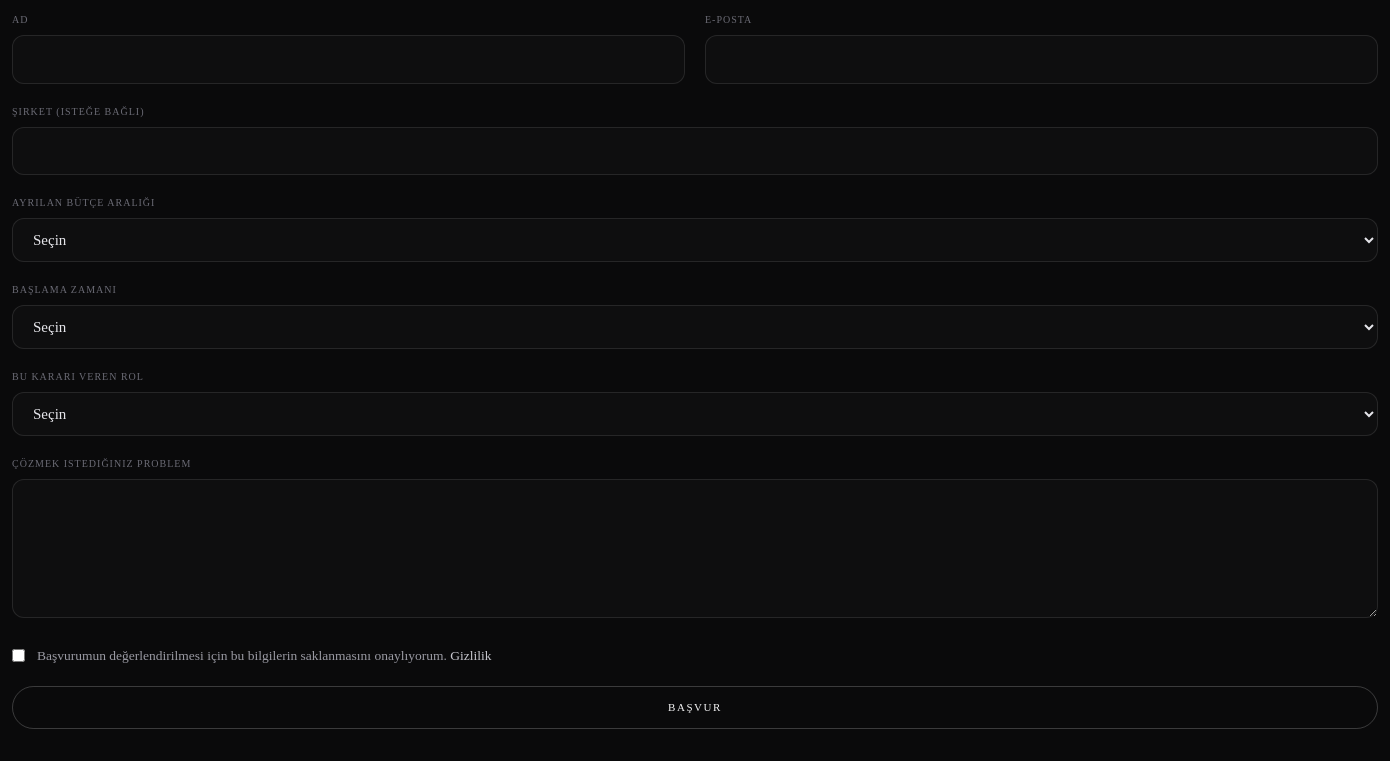
Test case: the Studio API error envelope › renders a known API {error} code with localized copy
Type "Ada" into the field labelled "Ad" at (348, 59), box 12,35 -> 685,84
Type "ada@example.com" into the field labelled "E-posta" at (1042, 59), box 705,35 -> 1378,84
Type "A measurable product problem." into the text box labelled "Çözmek istediğiniz problem" at (695, 548), box 12,479 -> 1378,618
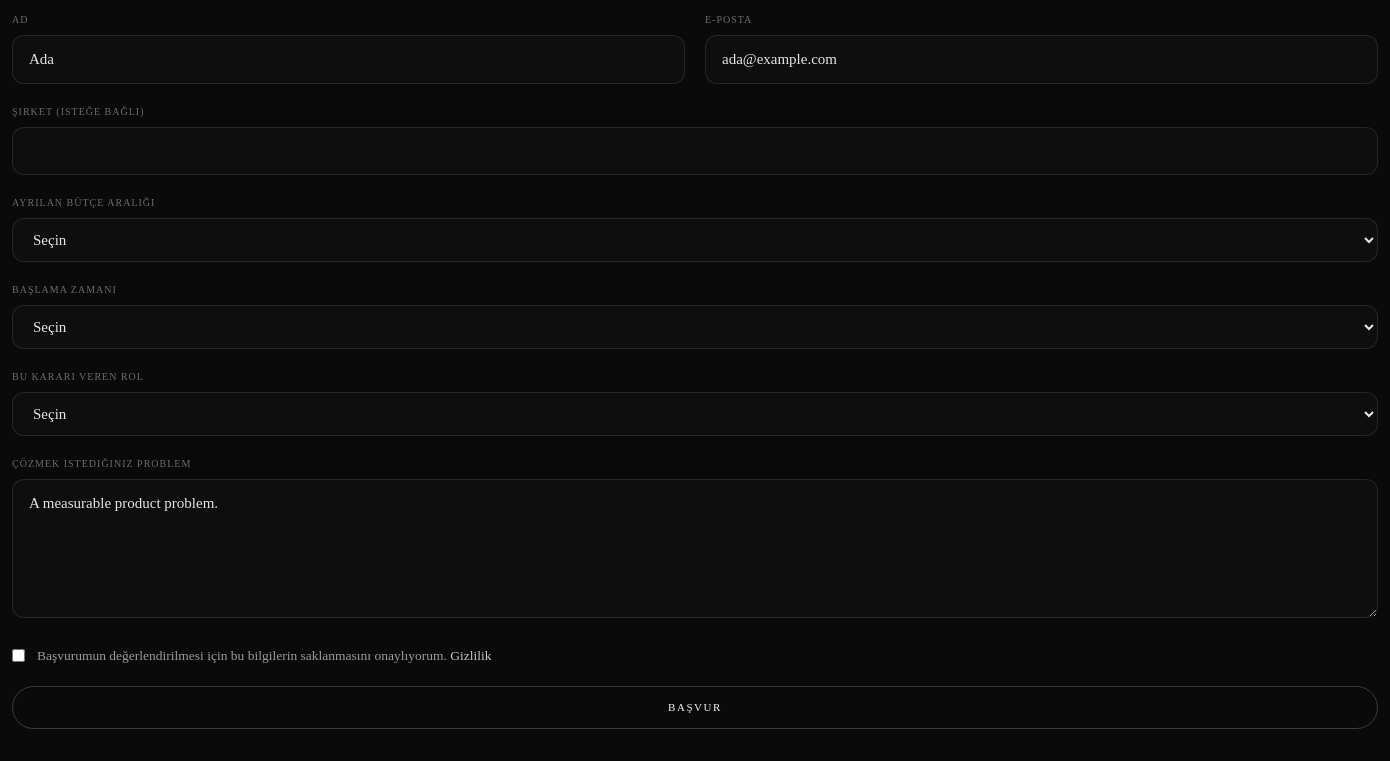
Select "Henüz küçük bir bütçe" in the dropdown labelled "Ayrılan bütçe aralığı" at (695, 240), box 12,218 -> 1378,262
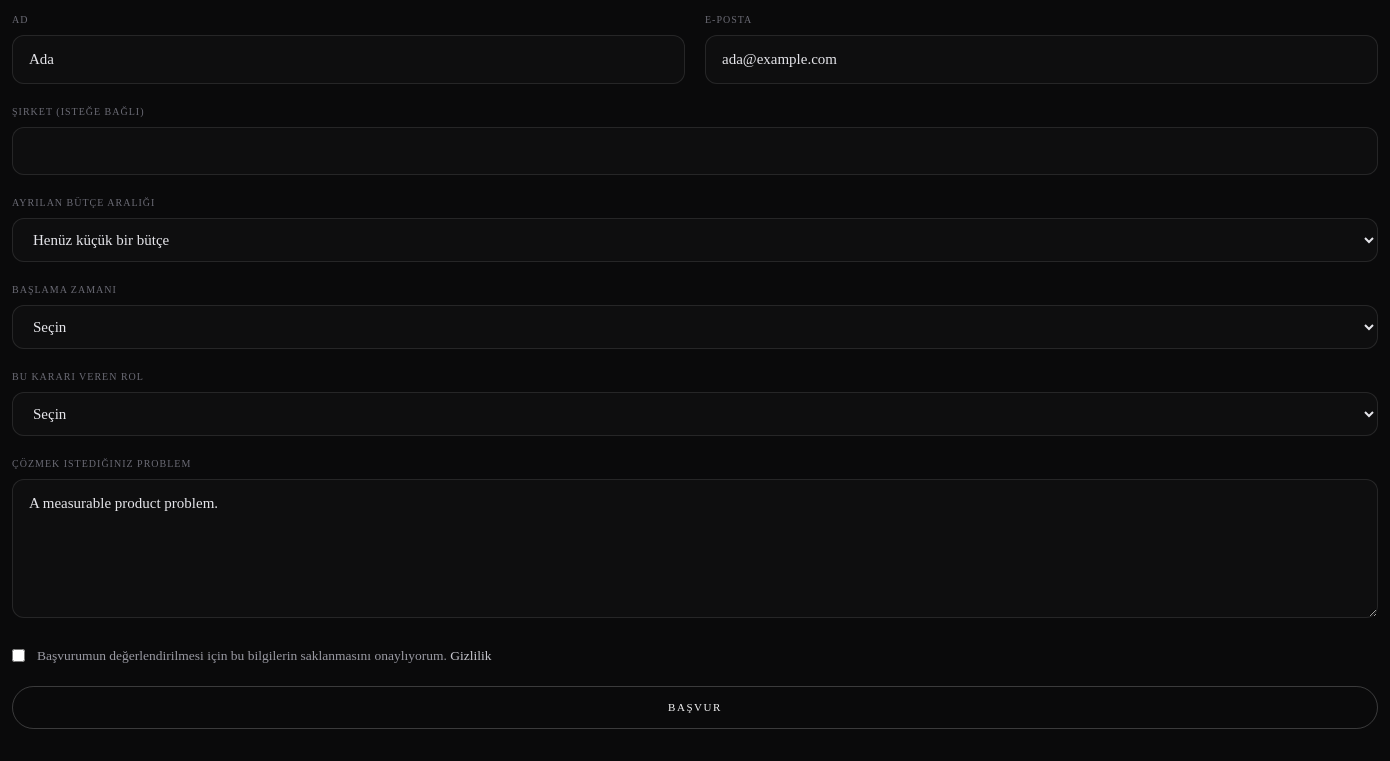
Select "Hazırız" in the dropdown labelled "Başlama zamanı" at (695, 327), box 12,305 -> 1378,349
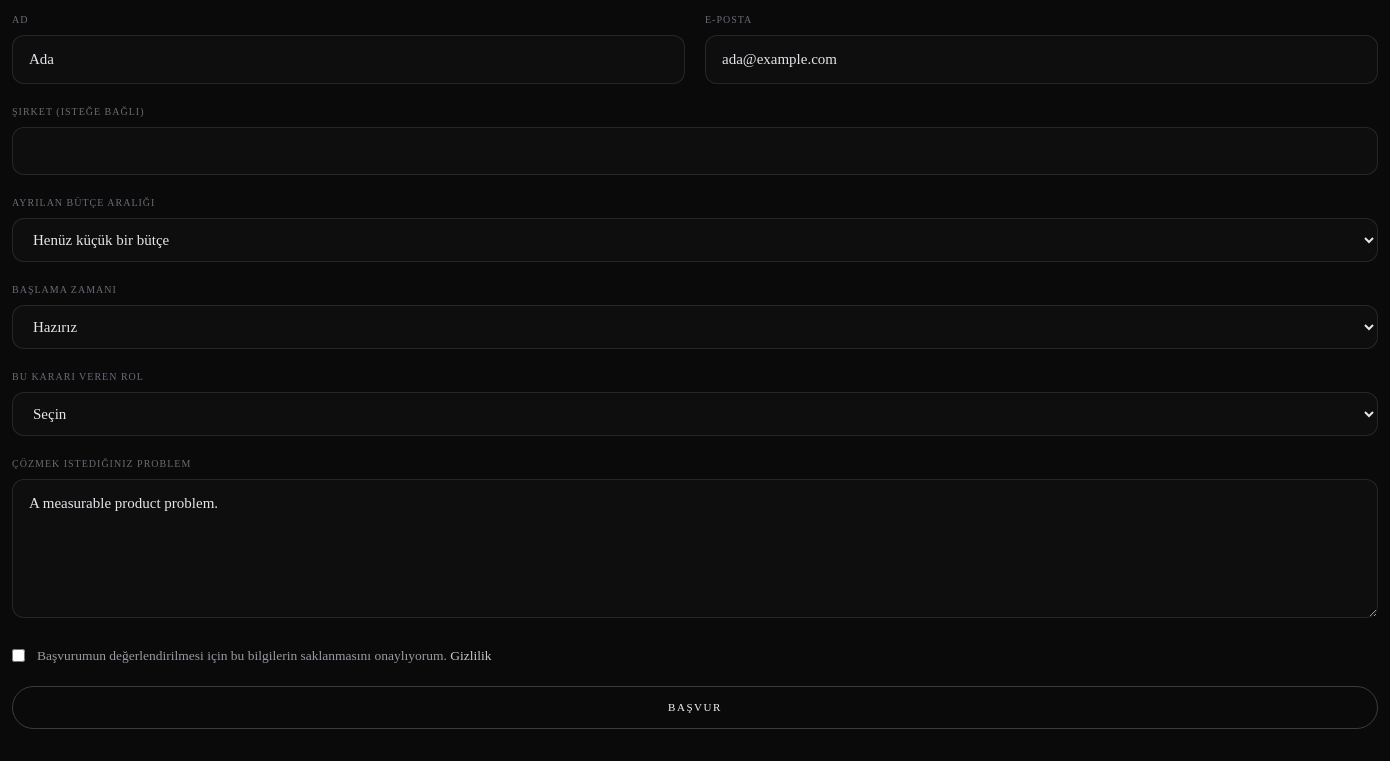
Select "Kurucu" in the dropdown labelled "Bu kararı veren rol" at (695, 414), box 12,392 -> 1378,436
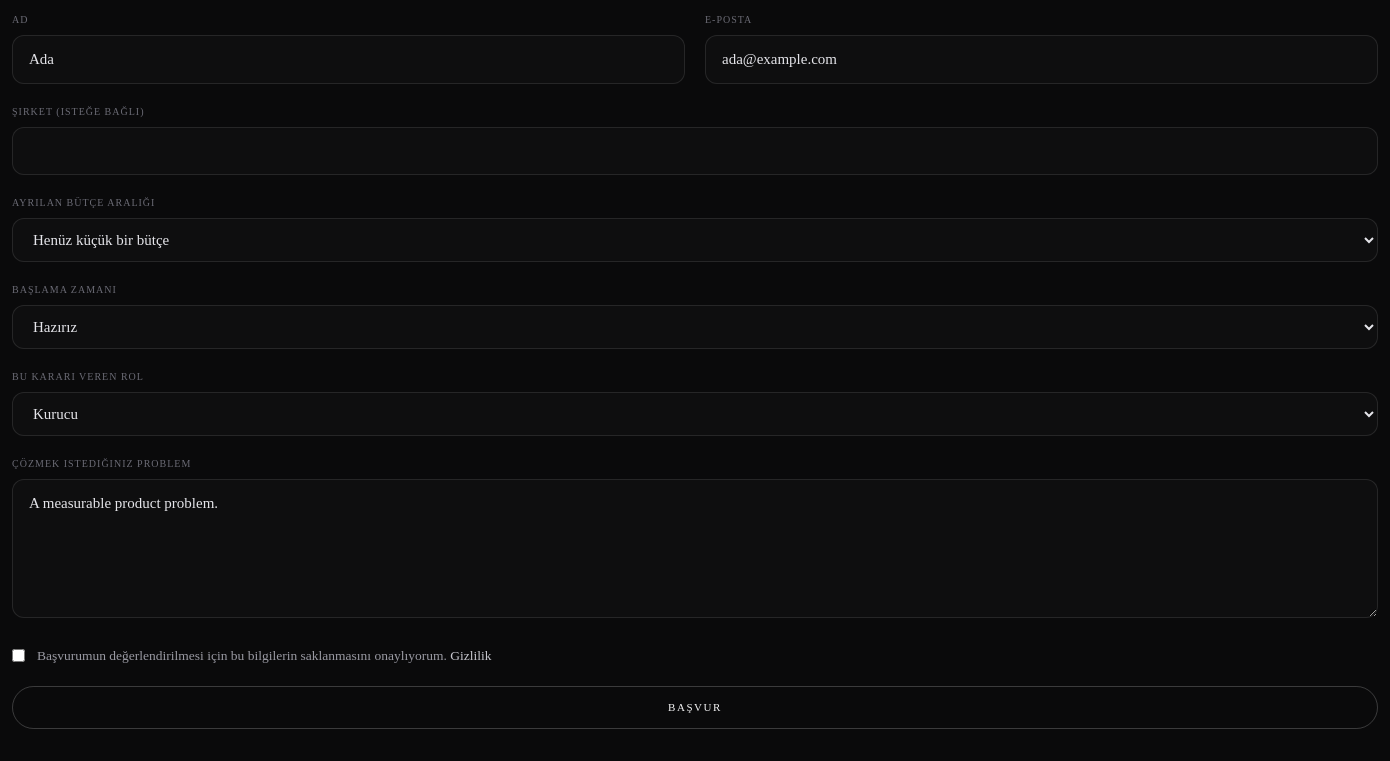
Click the checkbox at (18, 655), box 12,648 -> 25,662
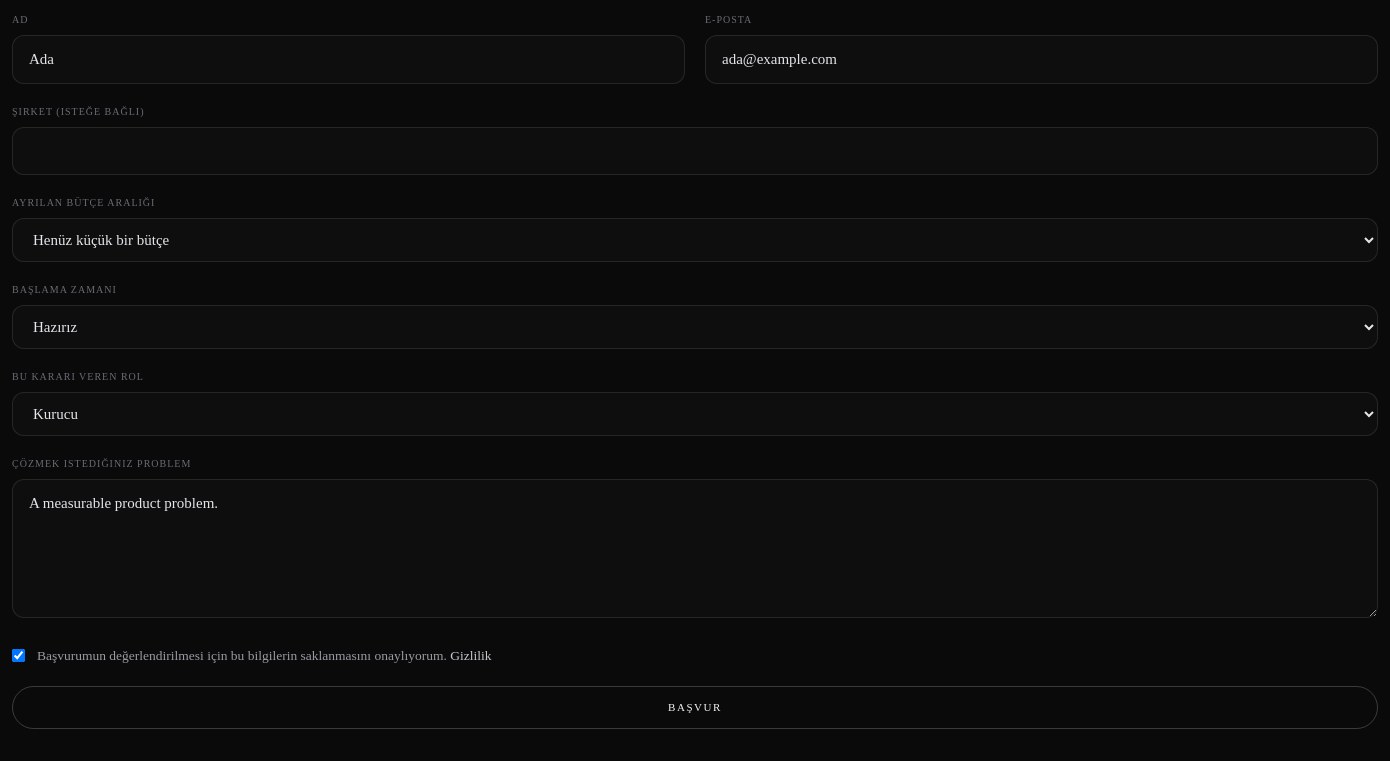
Submit the form from the button "Başvur", box 12,686 -> 1378,729
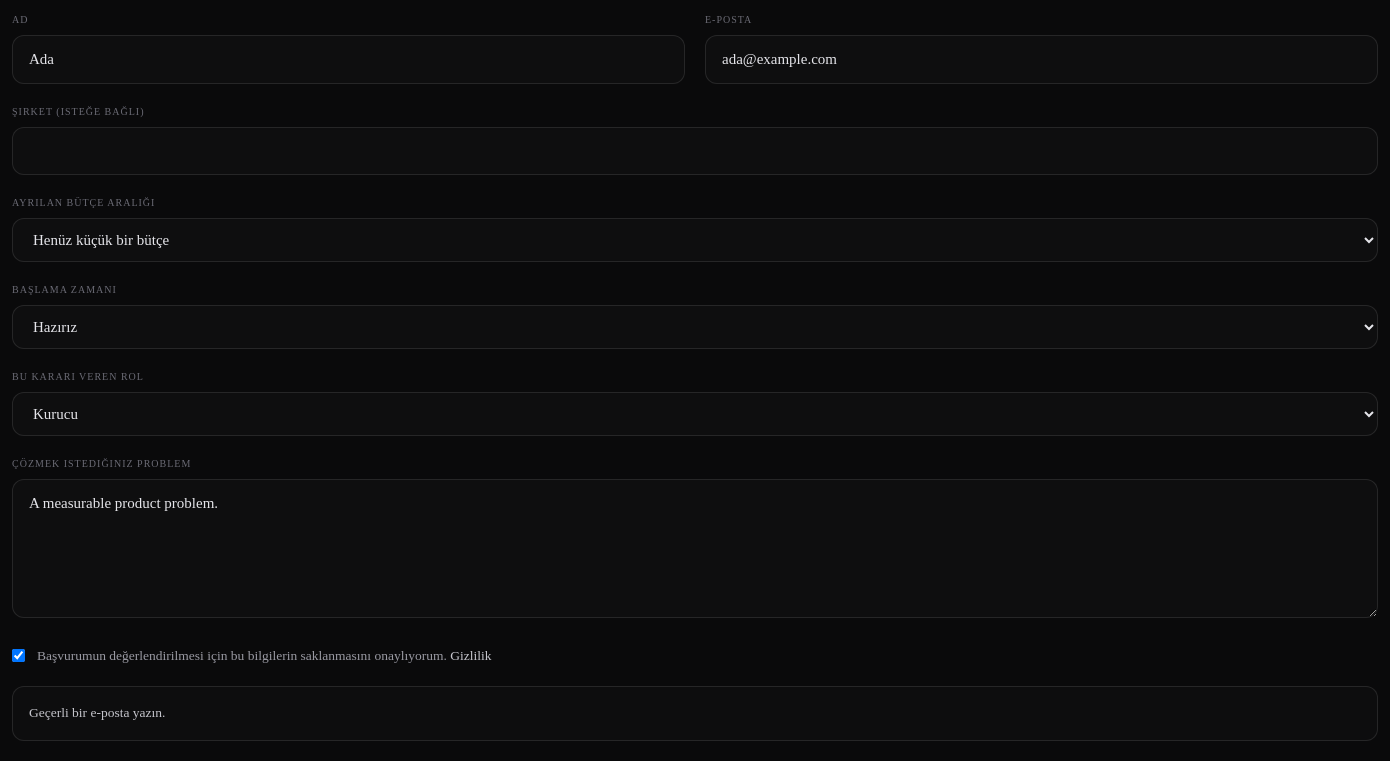
Check: the list item "Geçerli bir e-posta yazın." is shown, box 29,705 -> 165,720
